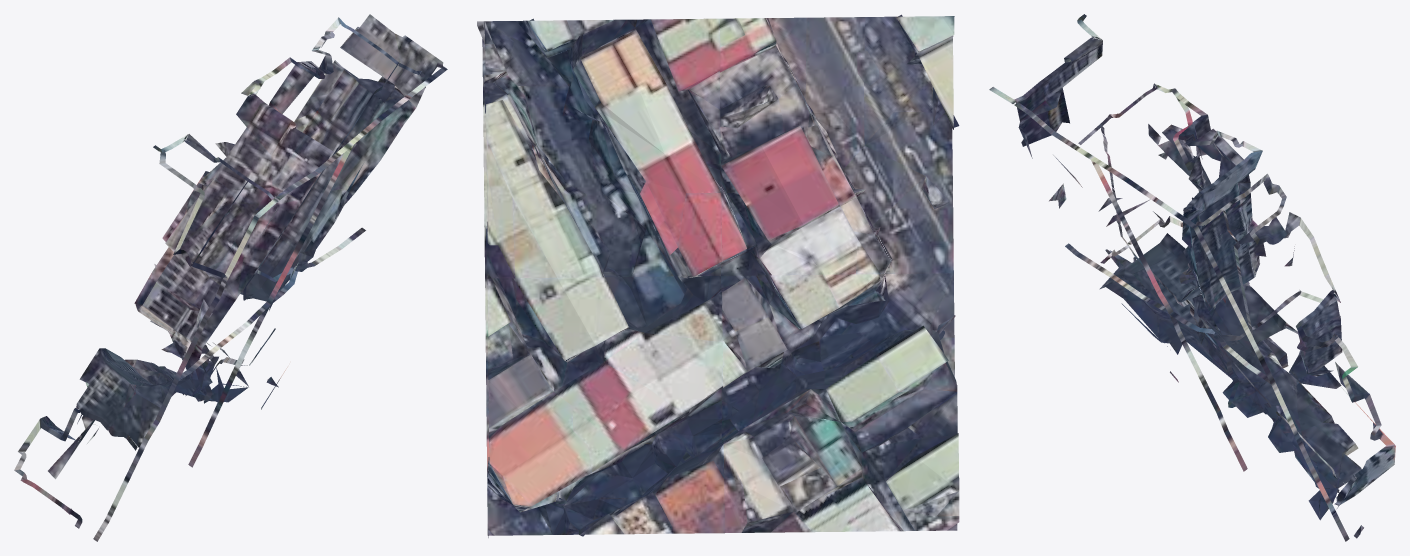
3 views of the same model, side by side, from view 1: azimuth 30°, elevation 25°; view 2: azimuth 150°, elevation 25°; view 3: azimuth 270°, elevation 25° (orthographic). The views are drawn at different scales.
Bounding box in the file's own units: 84.31 × 78.72 × 72.44.
Materials: 1 (1 with a texture image).
